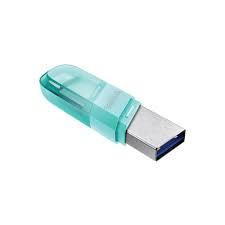Flash-drive: (33, 53, 194, 166)
